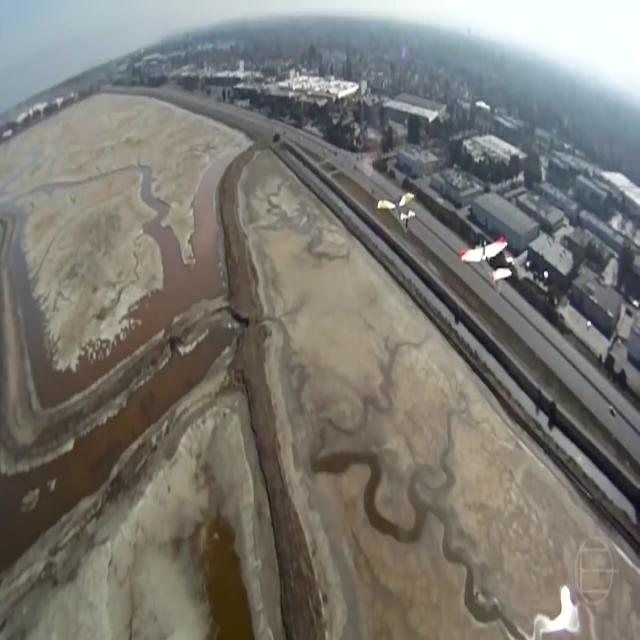iha: (460, 229, 512, 289), (370, 191, 410, 230)
